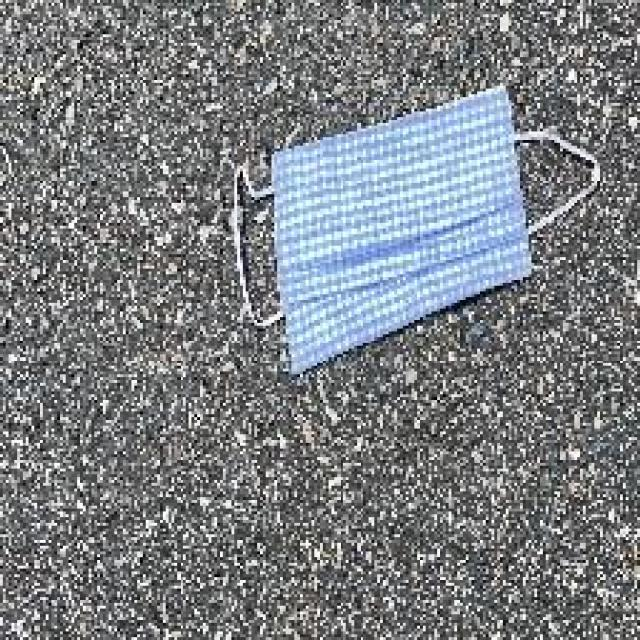Mask: (165, 44, 606, 383)
